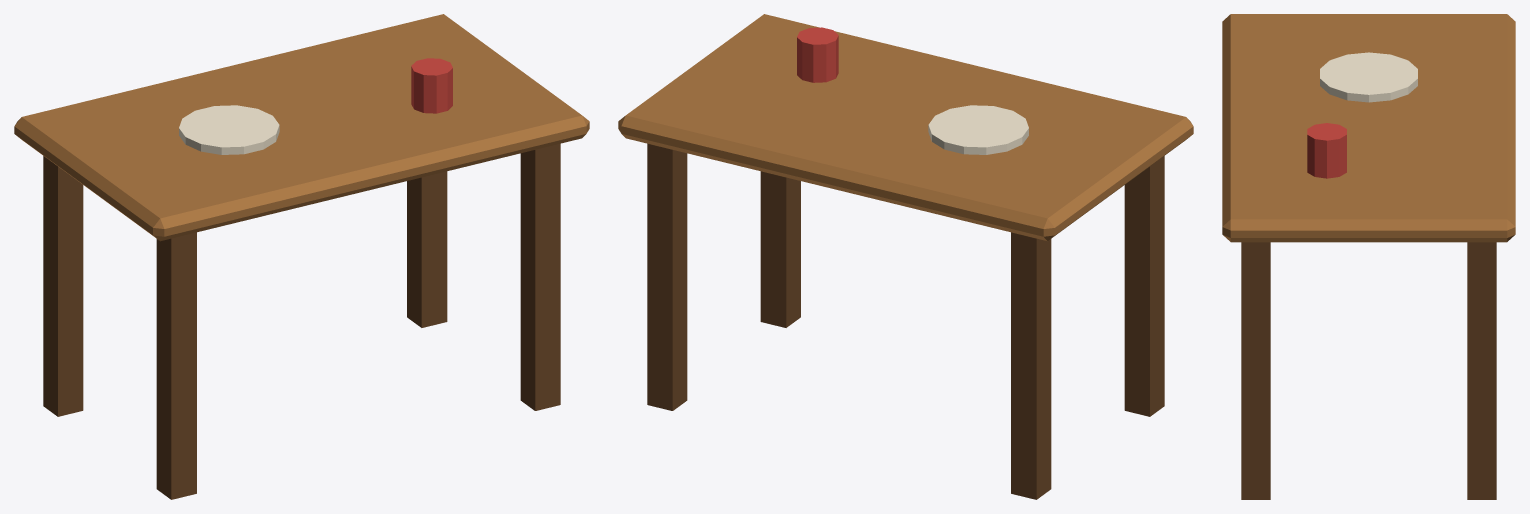
Rendered from table.glb.
3 renders of one model, left to right at view 1: azimuth 30°, elevation 25°; view 2: azimuth 150°, elevation 25°; view 3: azimuth 270°, elevation 25°, orthographic.
Parts seen in each view (by area): view 1: table; view 2: table; view 3: table.
Part boxes in pixels (x1,y1,x2,y2): table: (14, 14, 589, 499); table: (618, 14, 1193, 499); table: (1222, 14, 1515, 499).
Bounding box in the file's own units: 1.2 × 0.86 × 0.7.
